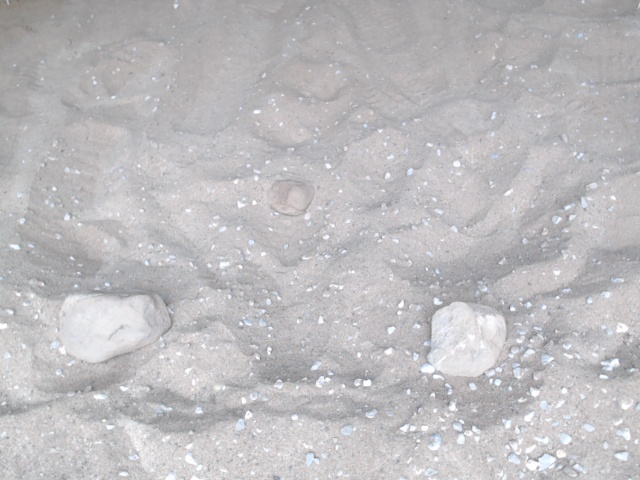rock: (55, 287, 175, 368), (421, 298, 509, 382), (267, 177, 316, 221)
